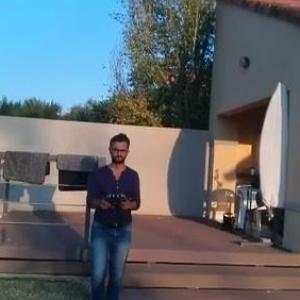follow: (78, 125, 144, 299)
